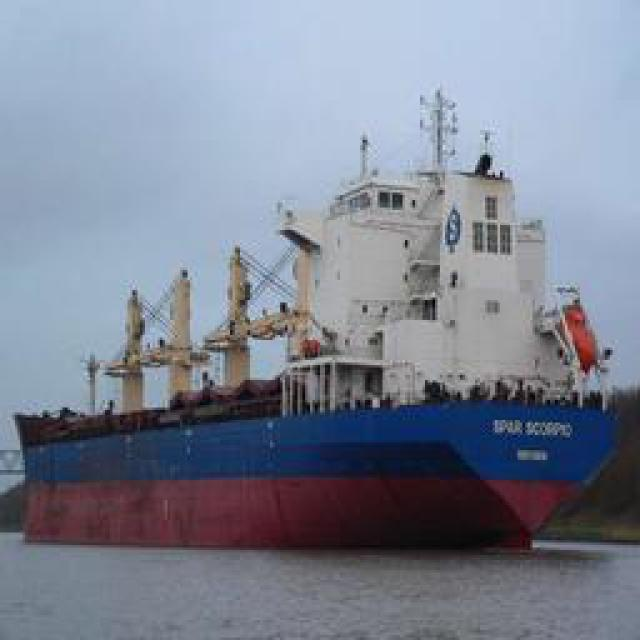Ship: (21, 79, 626, 554)
